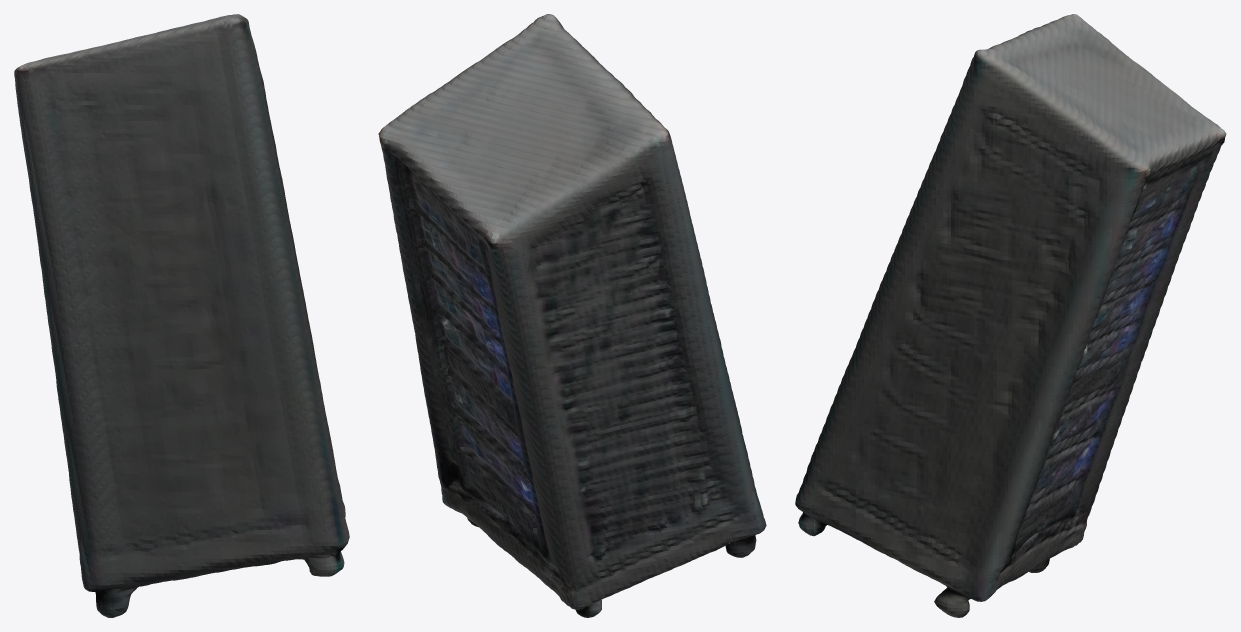
File: server.glb
The picture shows the model from 3 angles, left to right: view 1: azimuth 30°, elevation 25°; view 2: azimuth 150°, elevation 25°; view 3: azimuth 270°, elevation 25°; orthographic projection. The views are drawn at different scales.
Parts seen in each view (by area): view 1: geometry_0; view 2: geometry_0; view 3: geometry_0.
Boxes of the visible parts, x1,y1,x2,y2 form: geometry_0: (14, 14, 349, 617); geometry_0: (378, 14, 766, 617); geometry_0: (795, 14, 1226, 617).
Bounding box in the file's own units: 0.5827 × 1.09 × 0.7731.
